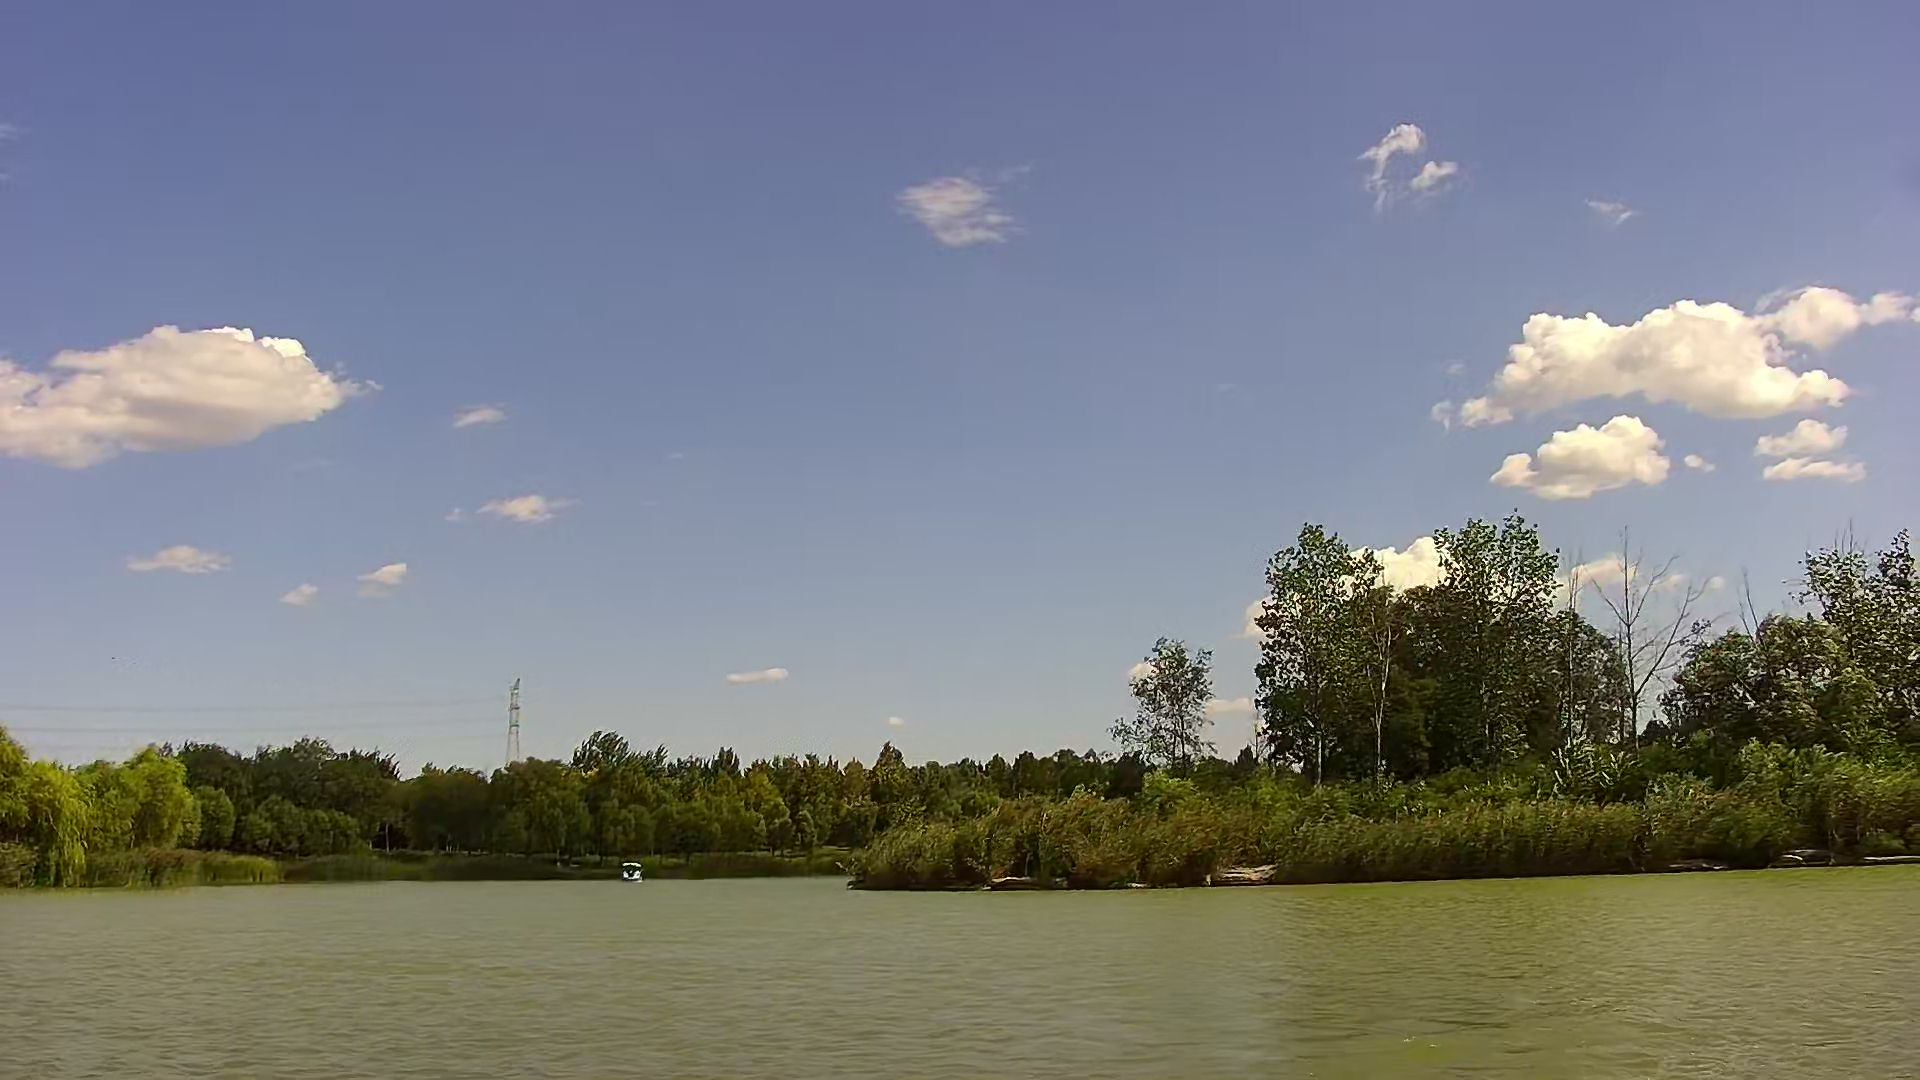rock: (1203, 864, 1278, 881), (990, 876, 1035, 891)
